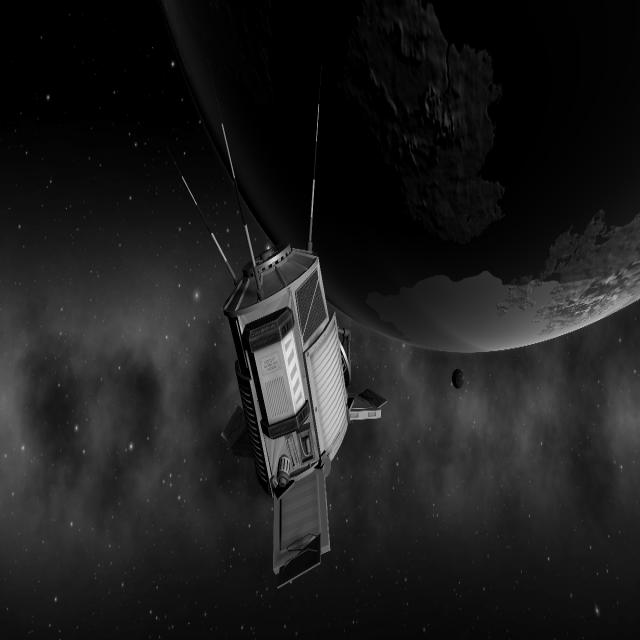satellite: (178, 101, 386, 594)
